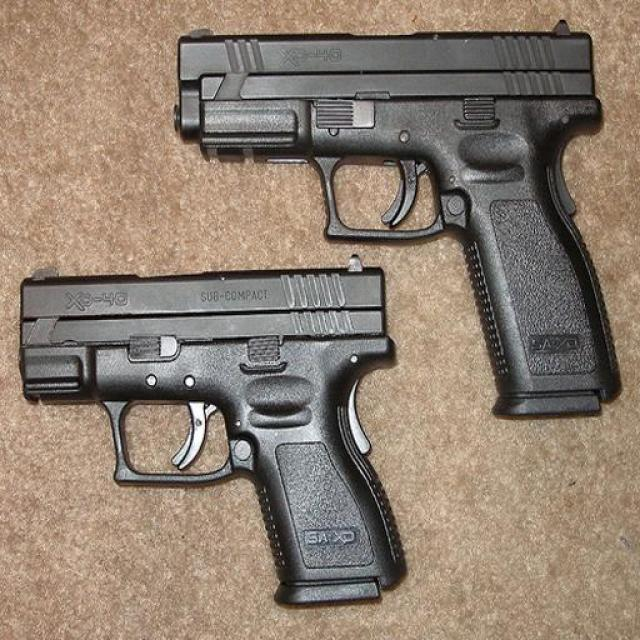pistol: (176, 19, 617, 418), (21, 258, 406, 603)
